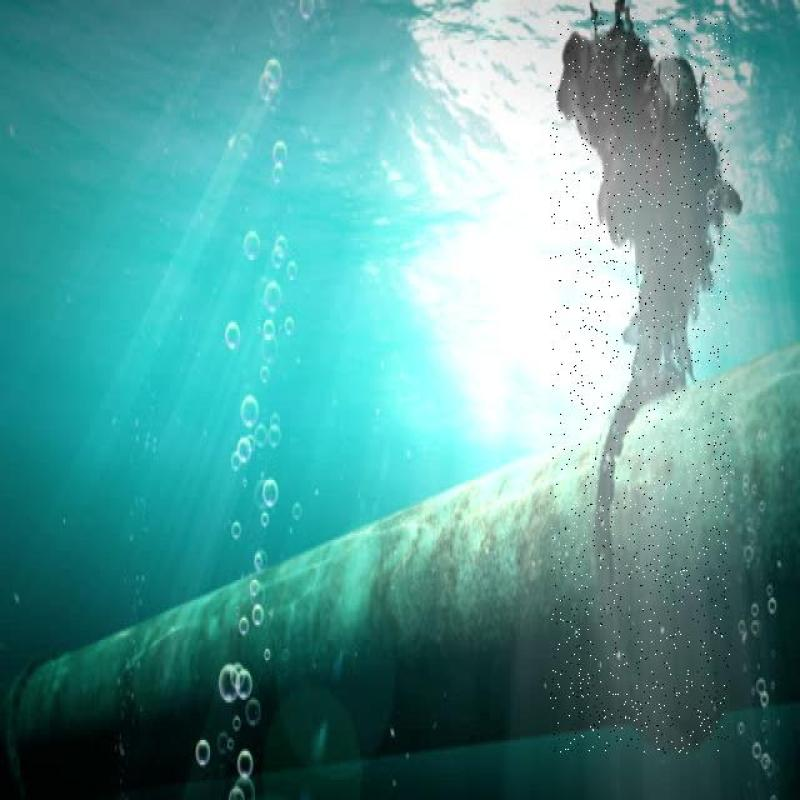Fracture: (567, 252, 729, 592)
